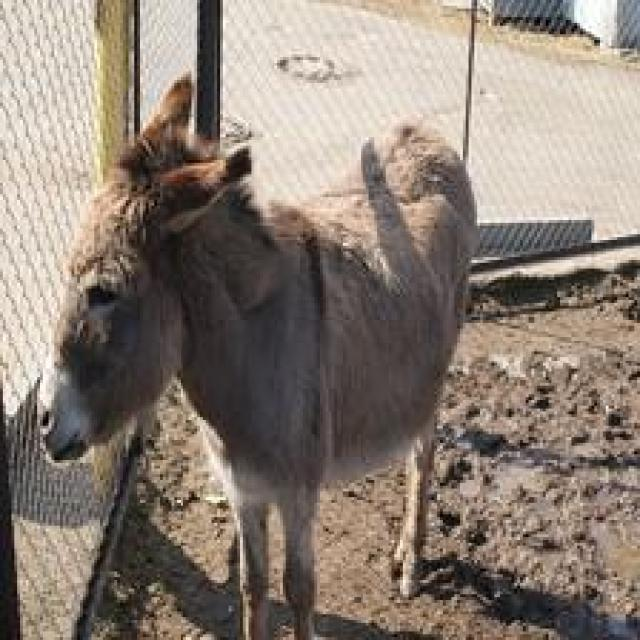Donkey: (34, 69, 477, 637)
